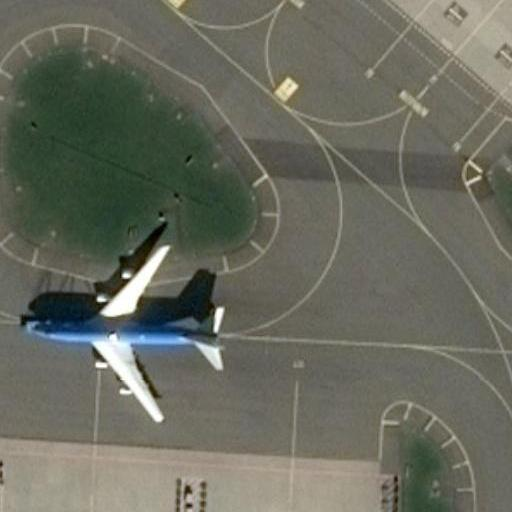Aircraft: (18, 231, 231, 424)
